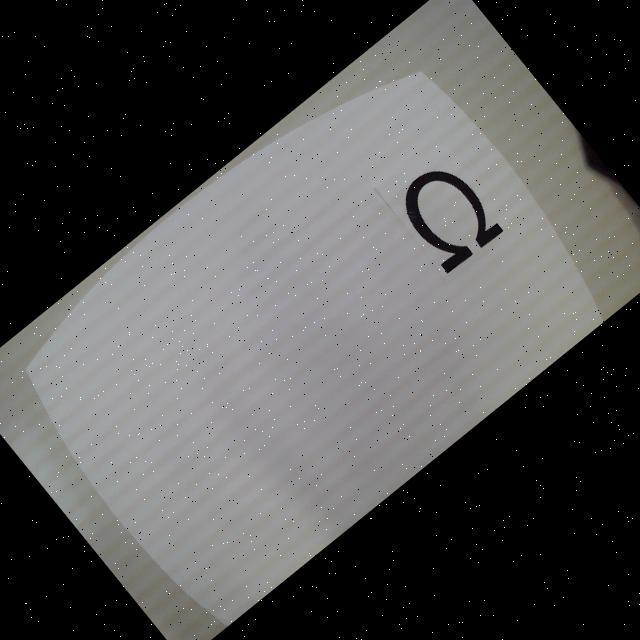OMEGA: (389, 155, 506, 276)
